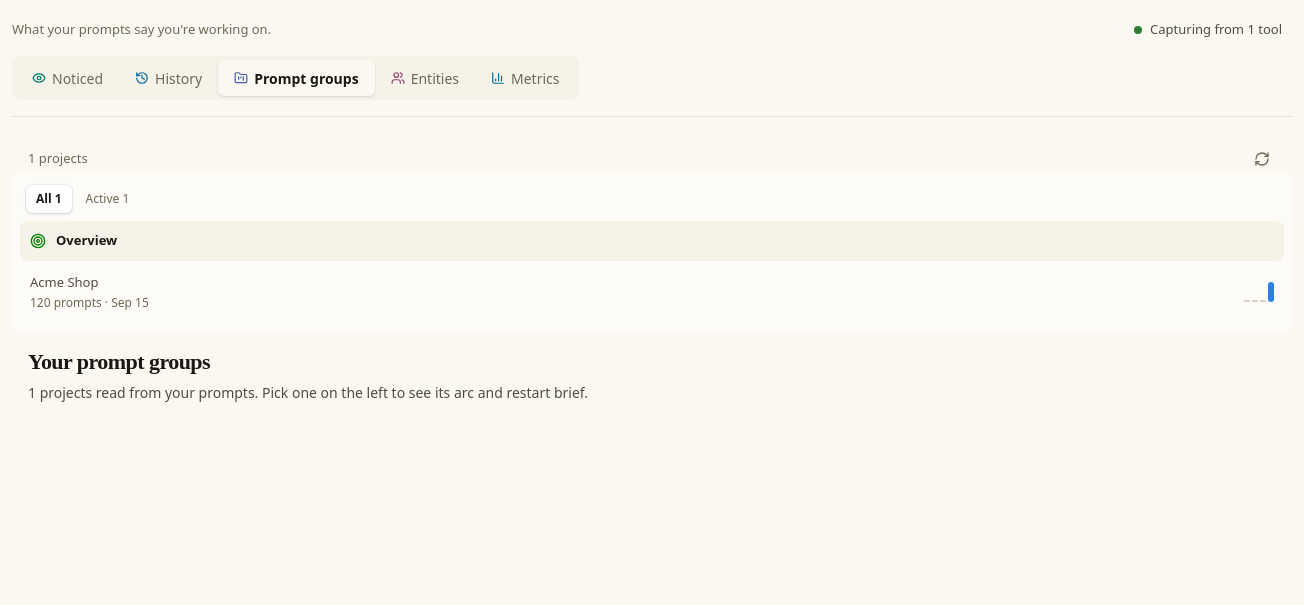
Scenario: phone › Projects detail offers only the restart brief
The image size is (1304, 605).
Step 1. Click the text "Acme Shop" → (64, 282), box 30,272 -> 98,290
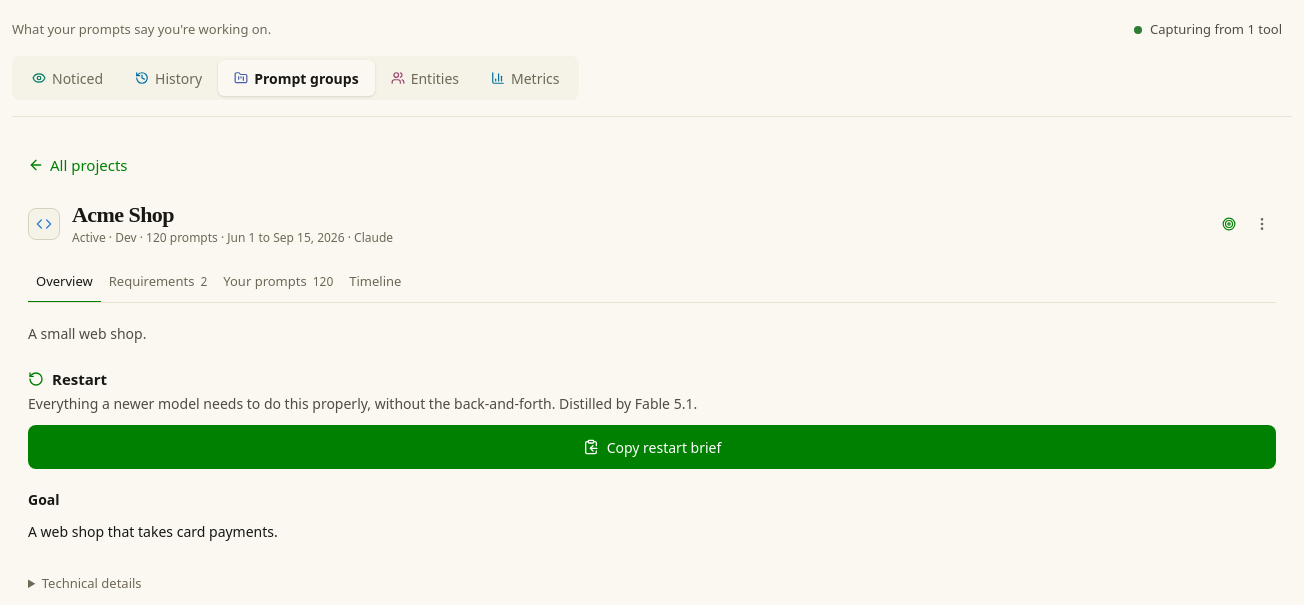
Check: the button "Copy restart brief" is shown, box 28,425 -> 1276,469
